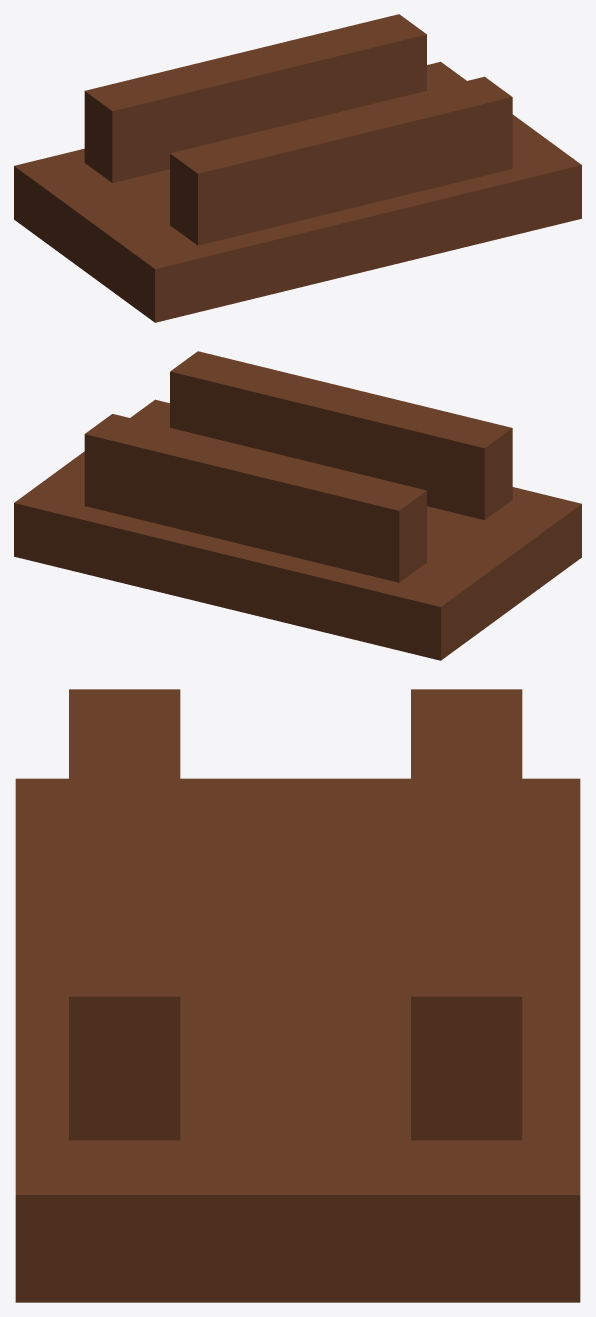
File: Cannon2.obj
3 renders of one model, top to bottom at view 1: azimuth 30°, elevation 25°; view 2: azimuth 150°, elevation 25°; view 3: azimuth 270°, elevation 25°, orthographic. The views are drawn at different scales.
Visible parts, largest first — view 1: 立方体; view 2: 立方体; view 3: 立方体.
Part boxes in pixels (x1,y1,x2,y2): 立方体: (14,14,581,322); 立方体: (14,351,581,660); 立方体: (15,689,580,1302).
Bounding box in the file's own units: 6.22 × 1.75 × 3.56.
Materials: 1 (1 with a texture image).
